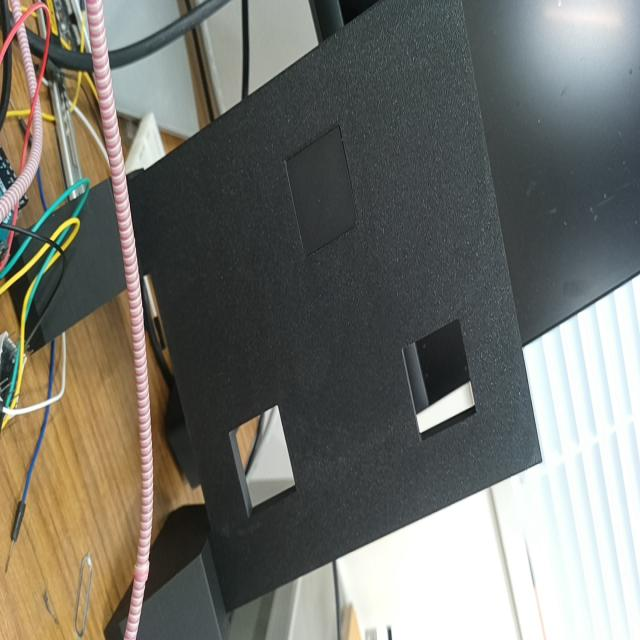Obstacle: (402, 318, 477, 441), (230, 403, 297, 516)
Wall: (134, 0, 543, 614)
